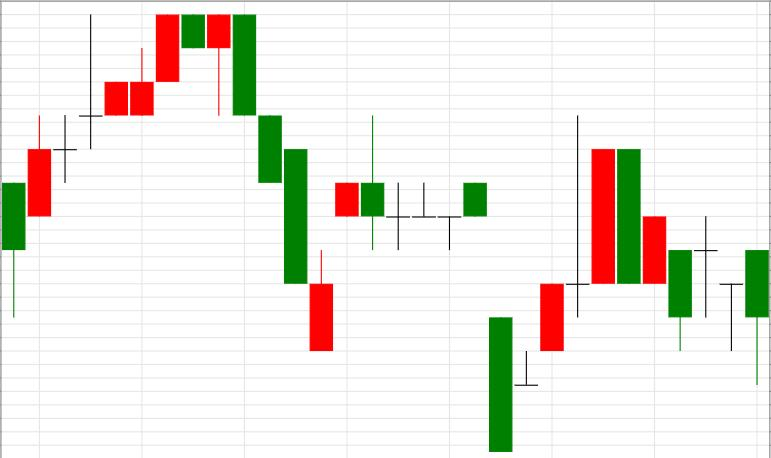bearish_engulfing_fall: (489, 115, 641, 453)
hanging_man_fall: (28, 14, 231, 217)
